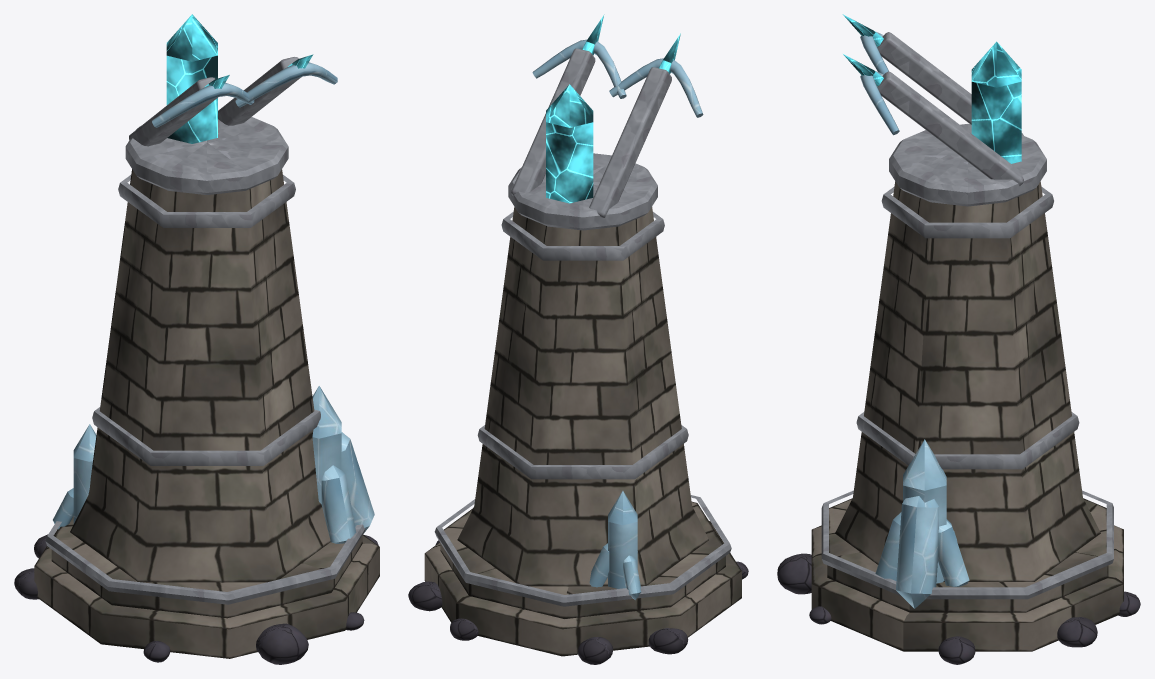
File: skywatch.glb
The picture shows the model from 3 angles, left to right: view 1: azimuth 30°, elevation 25°; view 2: azimuth 150°, elevation 25°; view 3: azimuth 270°, elevation 25°; orthographic projection. The views are drawn at different scales.
Parts seen in each view (by area): view 1: Base, Turret; view 2: Base, Turret; view 3: Base, Turret.
Boxes of the visible parts, x1,y1,x2,y2 form: Base: [14, 169, 379, 664]; Turret: [125, 14, 337, 194]; Base: [408, 207, 748, 664]; Turret: [508, 14, 703, 230]; Base: [777, 181, 1140, 664]; Turret: [842, 14, 1046, 206].
Bounding box in the file's own units: 0.9768 × 1.73 × 1.01.
5 materials, 5 textured.
